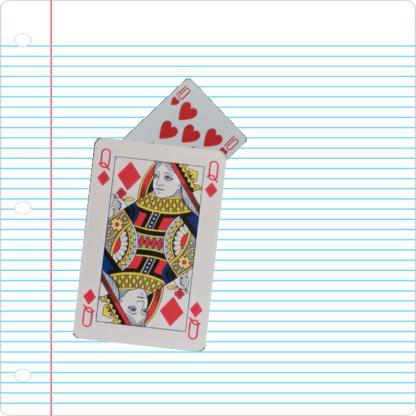10h: (167, 85, 192, 107)
Qd: (182, 295, 204, 341), (94, 145, 112, 187)
